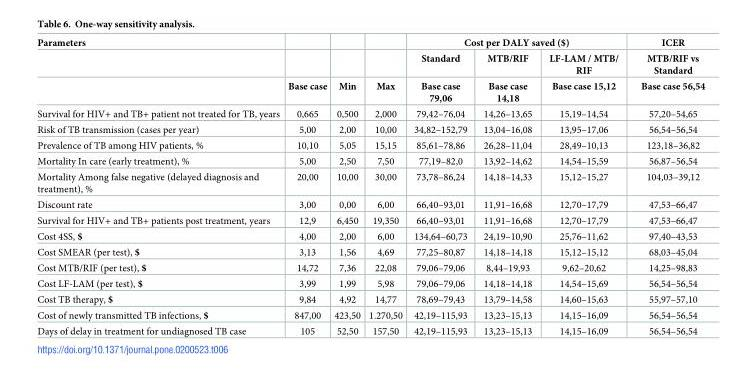table: (36, 37, 704, 335)
table column: (36, 37, 283, 335), (539, 37, 629, 335), (629, 37, 704, 335), (407, 37, 474, 335), (474, 37, 539, 335), (283, 37, 329, 335), (364, 37, 407, 335), (329, 37, 364, 335)
table column header: (36, 37, 704, 105)
table row: (36, 77, 704, 105), (36, 168, 704, 196), (36, 50, 704, 77), (36, 105, 704, 121), (36, 121, 704, 137), (36, 137, 704, 153), (36, 196, 704, 212), (36, 212, 704, 228), (36, 228, 704, 244), (36, 259, 704, 275), (36, 275, 704, 291), (36, 291, 704, 307), (36, 153, 704, 168), (36, 244, 704, 259), (36, 307, 704, 322), (36, 37, 704, 50), (36, 322, 704, 335)
table spanning cell: (36, 37, 283, 105), (629, 37, 704, 105), (539, 50, 629, 105), (407, 50, 474, 105), (474, 50, 539, 105), (283, 37, 329, 105), (364, 37, 407, 105), (407, 37, 629, 50), (329, 37, 364, 105)
